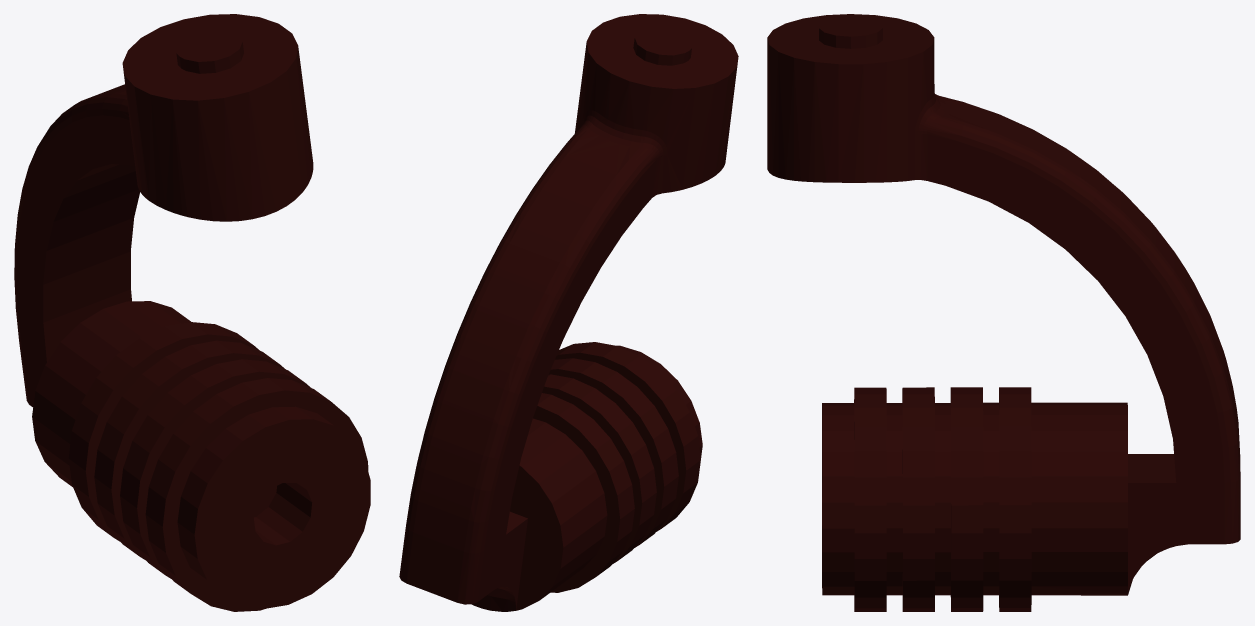
File: Mars6Mars_Rover__Curiosity_1_0__-_33_Front_Wheel_Servo_mech.004.dae
3 views of the same model, side by side, from view 1: azimuth 30°, elevation 25°; view 2: azimuth 150°, elevation 25°; view 3: azimuth 270°, elevation 25° (orthographic). The views are drawn at different scales.
Visible parts, largest first — view 1: tmp_export_Mars6Mars_Rover__Curiosity_1_0__-_33_Front_Wheel_; view 2: tmp_export_Mars6Mars_Rover__Curiosity_1_0__-_33_Front_Wheel_; view 3: tmp_export_Mars6Mars_Rover__Curiosity_1_0__-_33_Front_Wheel_.
Part boxes in pixels (bbox=[...]): tmp_export_Mars6Mars_Rover__Curiosity_1_0__-_33_Front_Wheel_: bbox=[14, 14, 370, 611]; tmp_export_Mars6Mars_Rover__Curiosity_1_0__-_33_Front_Wheel_: bbox=[399, 14, 738, 611]; tmp_export_Mars6Mars_Rover__Curiosity_1_0__-_33_Front_Wheel_: bbox=[767, 14, 1240, 611].
Bounding box in the file's own units: 0.3622 × 0.6661 × 0.8559.
